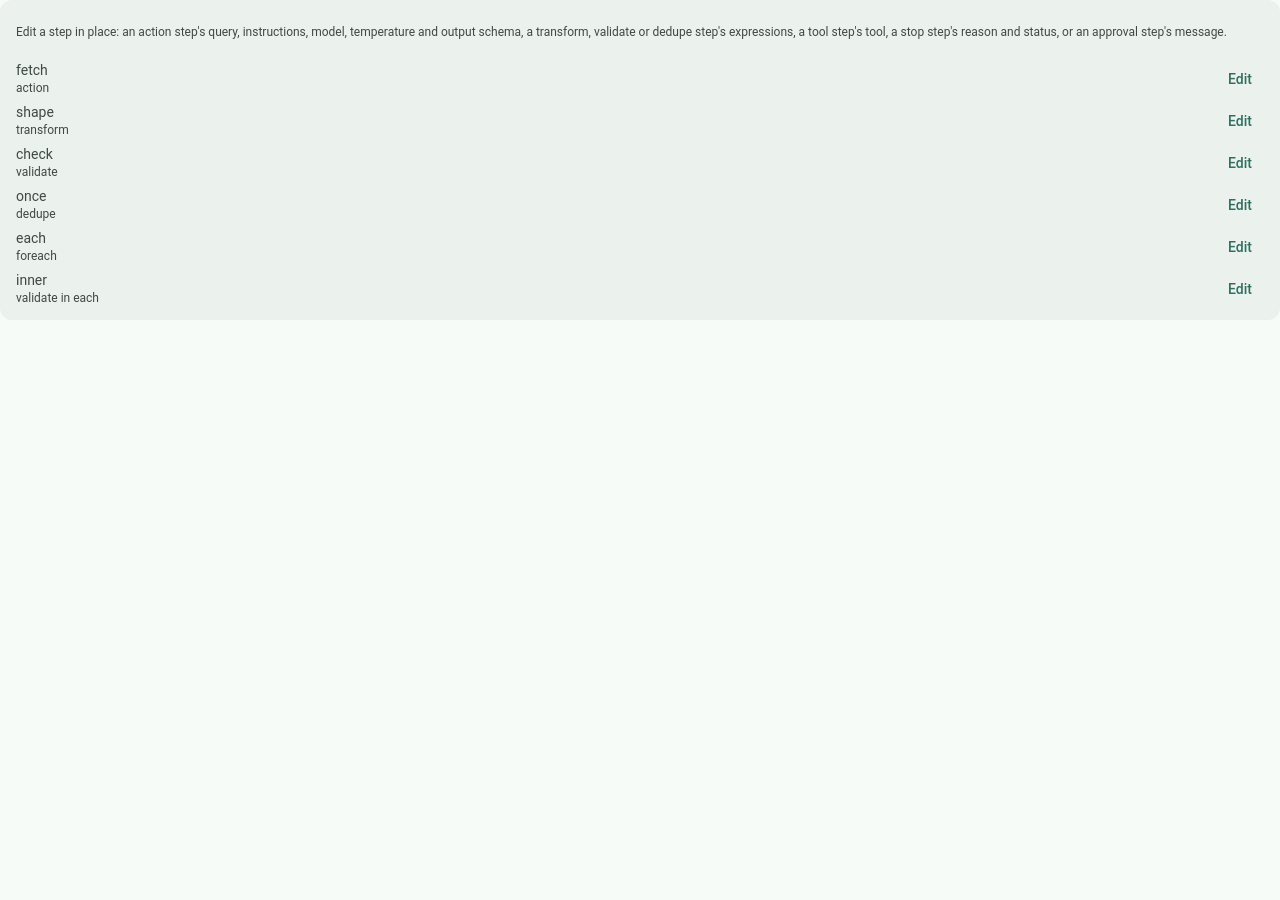
Test: StepsPanel › data steps (KAM-152) › offers Edit on transform, validate and dedupe steps, filled with their values
Expected: the button with aria-label "Edit check" is shown, [1216,145,1264,181]
Expected: the button with aria-label "Edit once" is shown, [1216,187,1264,223]
Click the button with aria-label "Edit shape": (1240, 121) [1216,103,1264,139]
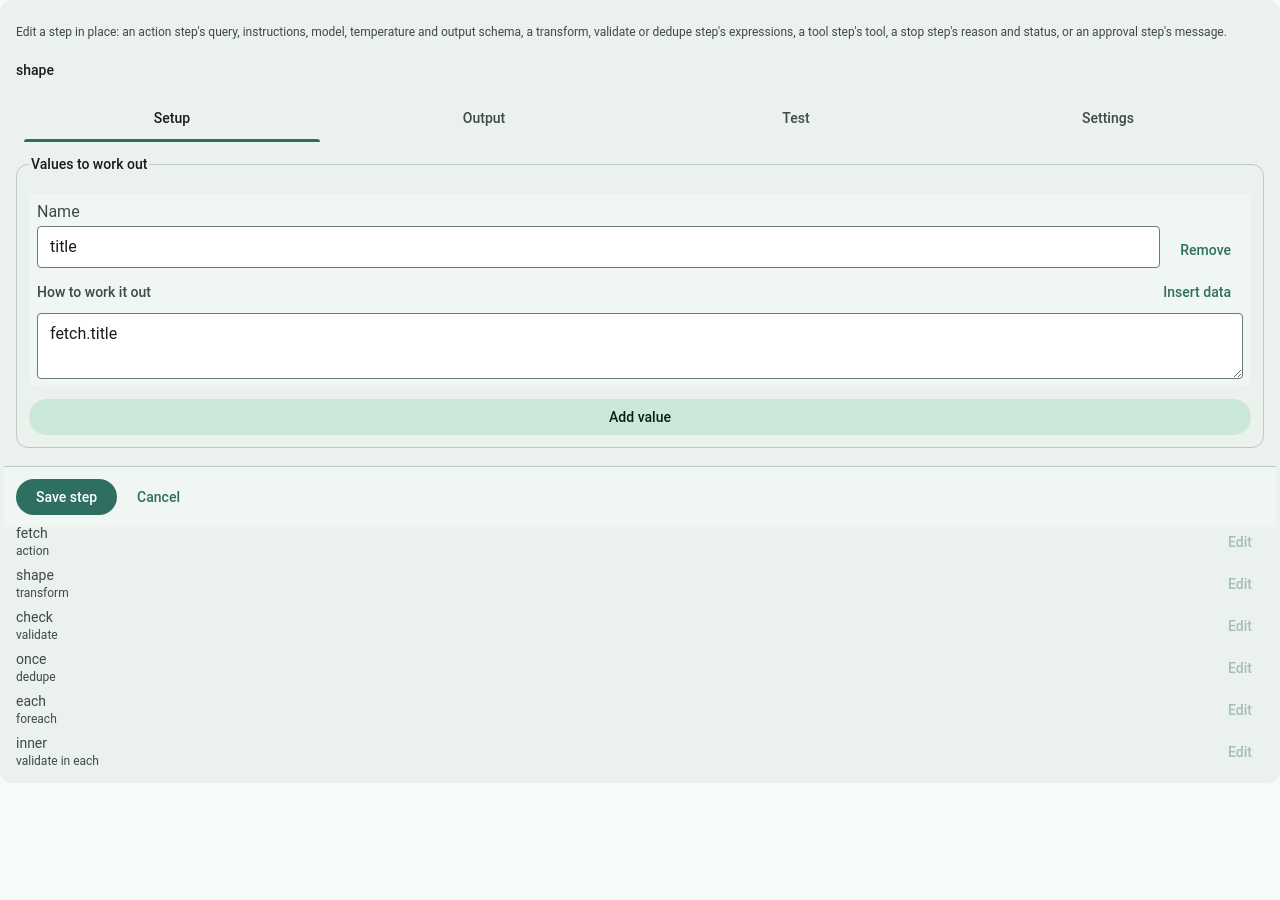
Result: the field named "Value 1 name" holds "title" at [37,226,1160,268]
Result: the dropdown named "Value 1 expression" holds "fetch.title" at [37,313,1243,379]
